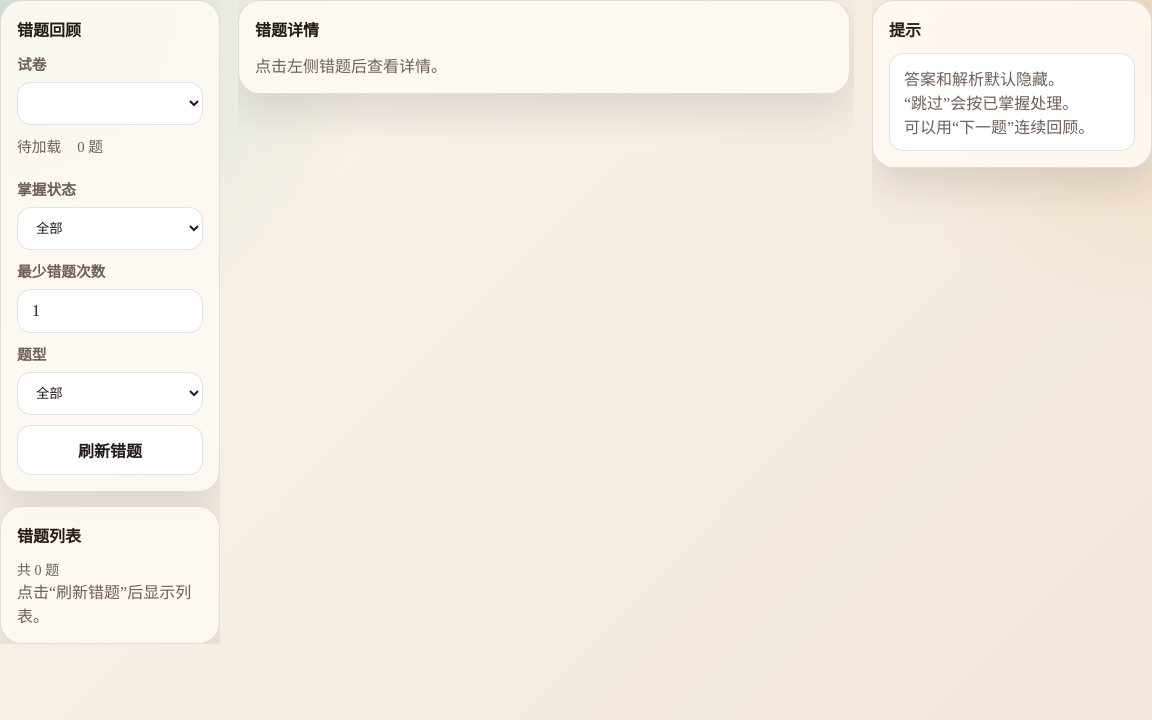
Test: 错题回顾默认隐藏答案和解析
Expected: the text "错题回顾" is shown, [17,22,81,39]
Click the button "刷新错题": (110, 450) [17,425,203,475]
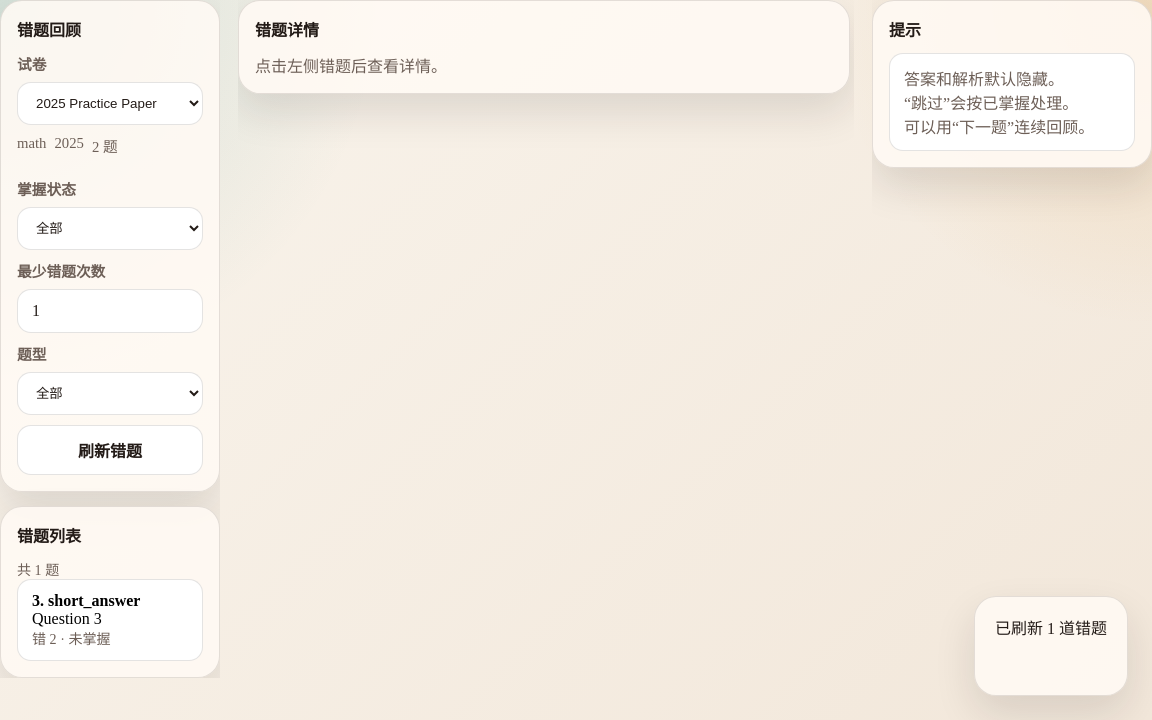
Result: the text "Question 3" is shown at [32,610,102,627]
Click the button "3. short_answer Question 3 错 2 · 未掌握": (110, 620) [17,579,203,661]
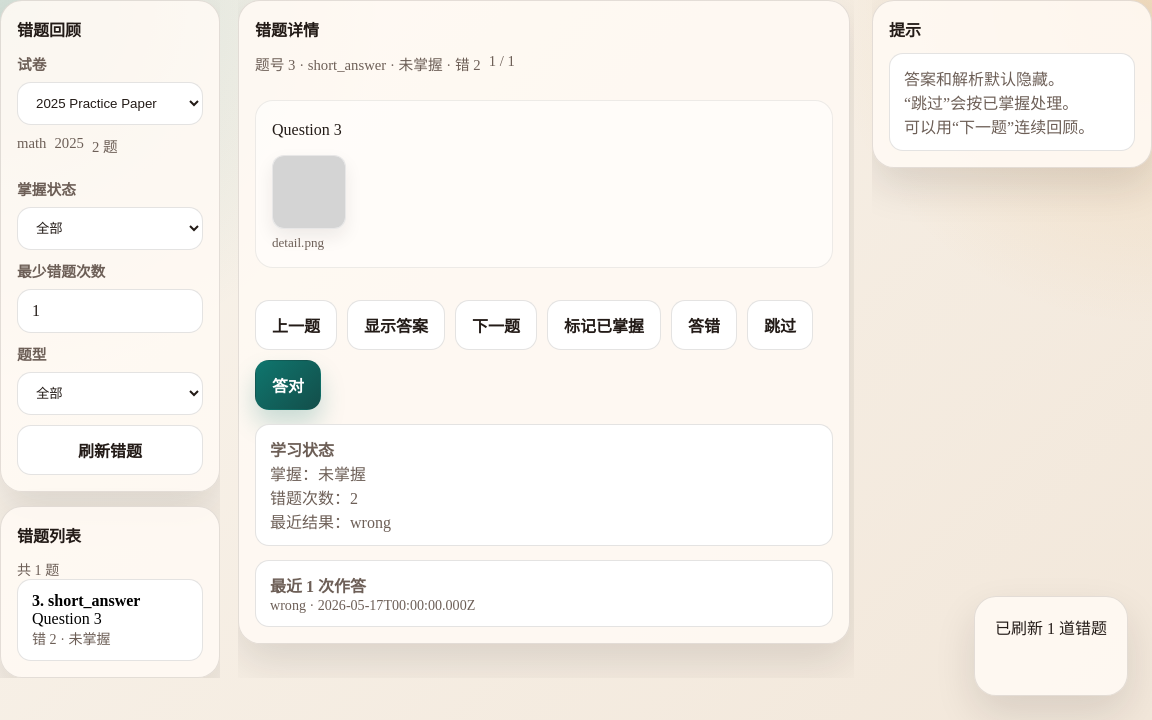
Result: the button "显示答案" is shown at [347,300,445,350]
